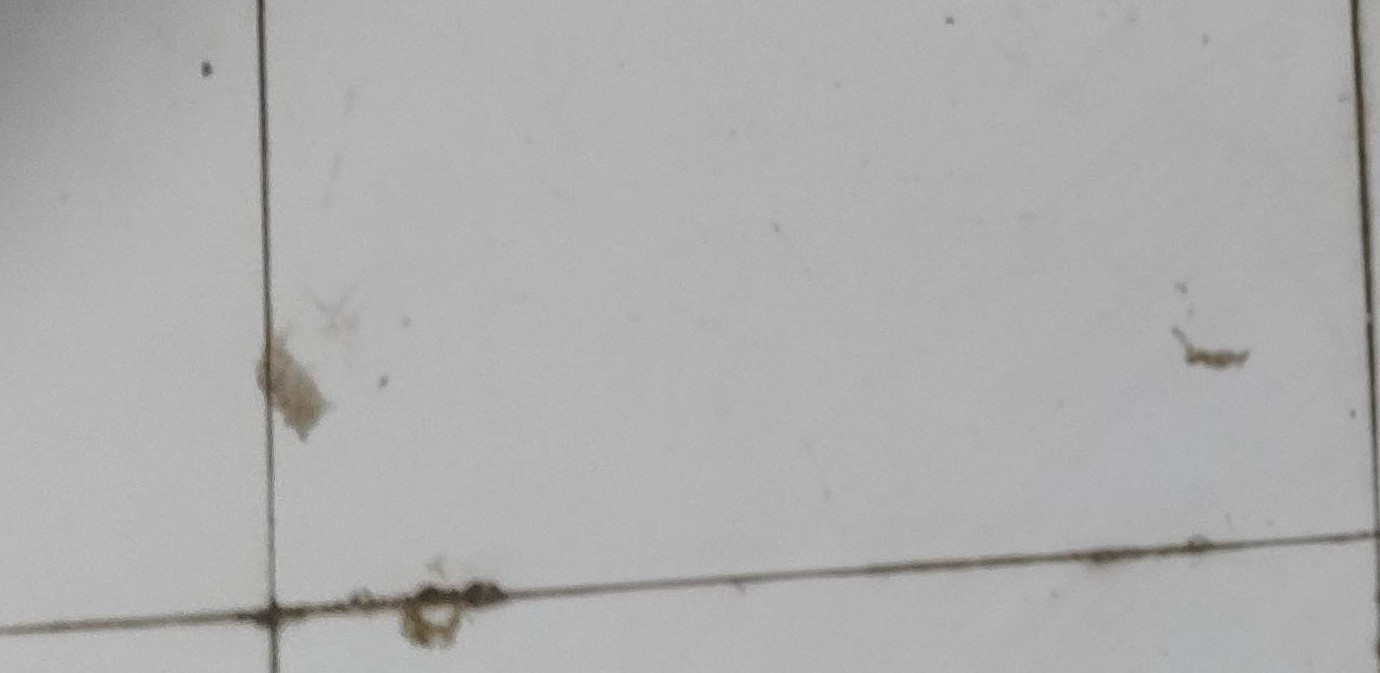grey spot: (254, 333, 330, 442), (399, 576, 512, 647), (1174, 323, 1251, 371)
